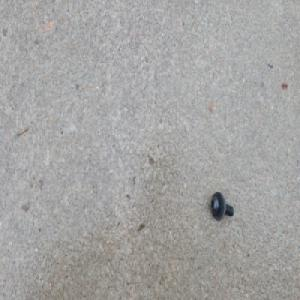BoltWasher: (210, 189, 235, 220)
